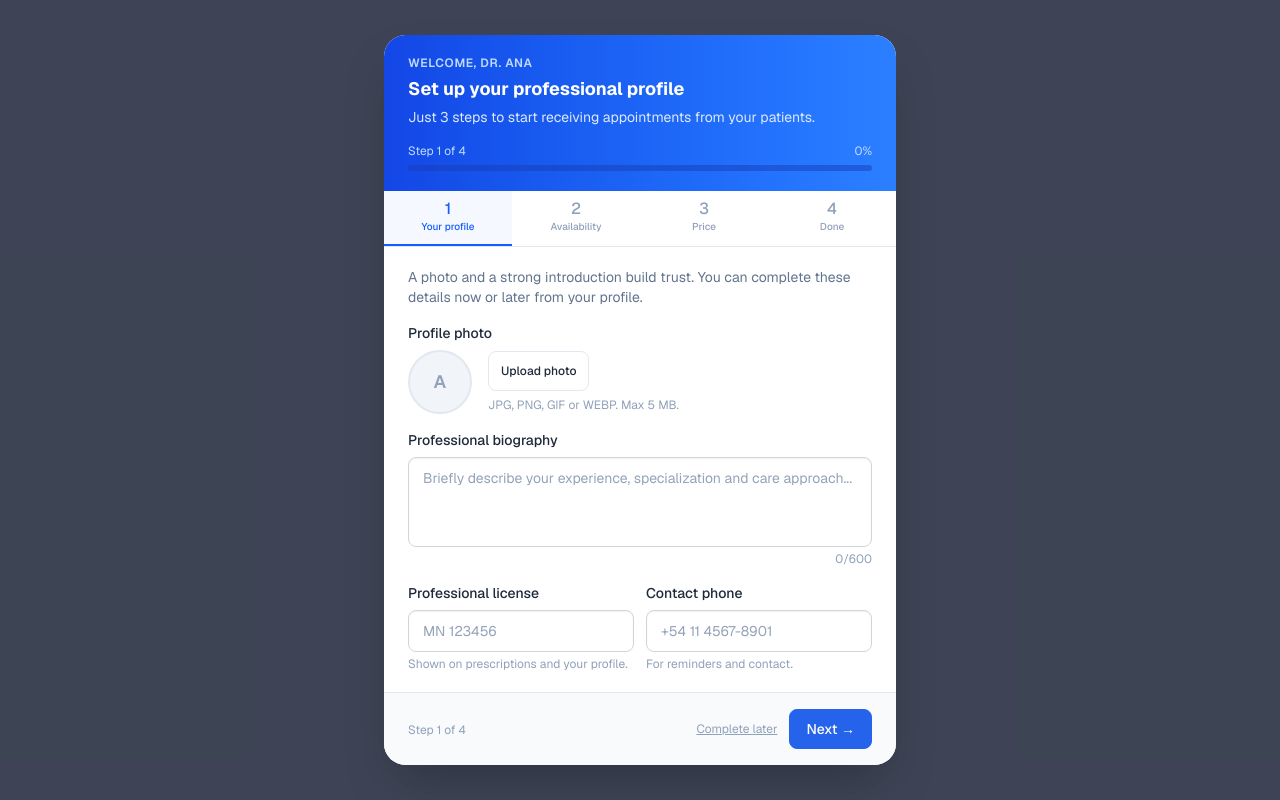
Test case: professional onboarding wizard i18n › shows translated license (matrícula) format validation
Type "not-a-license" into the field with placeholder "MN 123456" at x=521, y=631, box [408, 610, 634, 652]
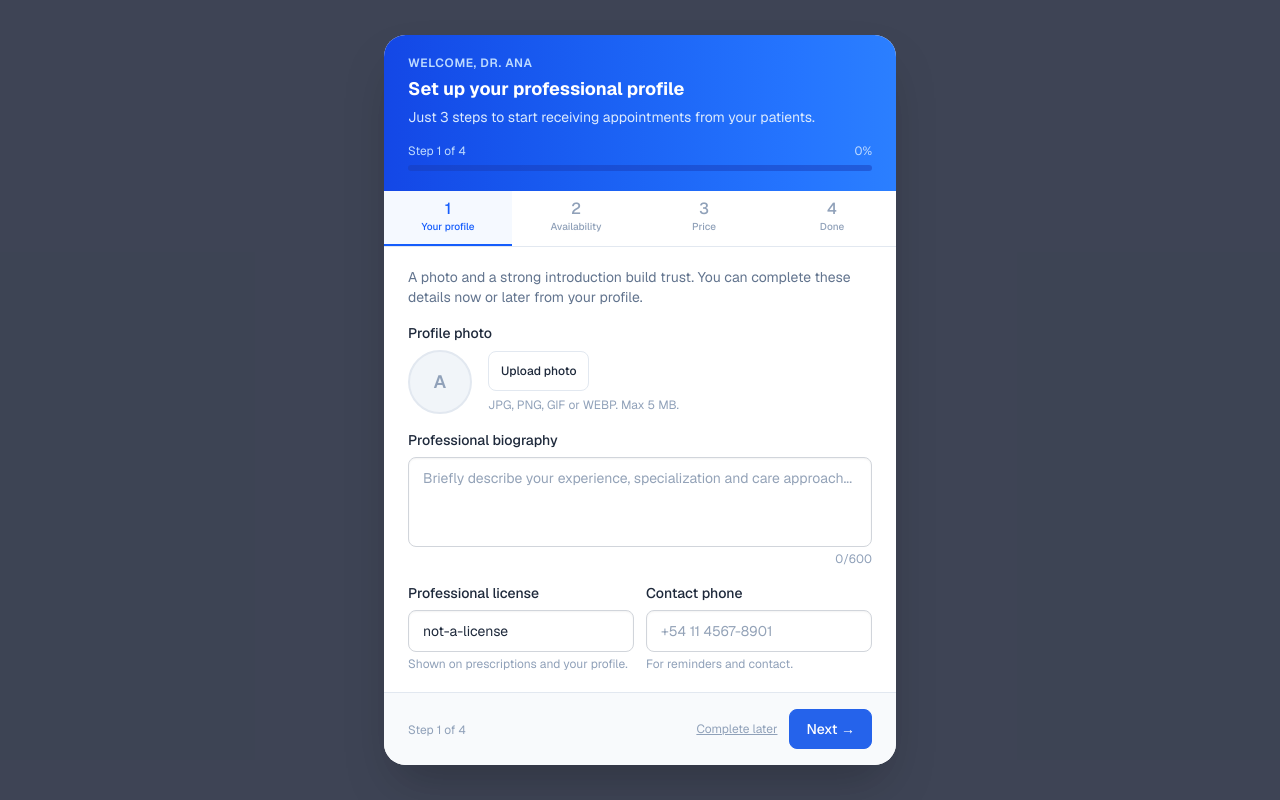
Click the button "Next →" at x=831, y=729, box [790, 709, 872, 749]
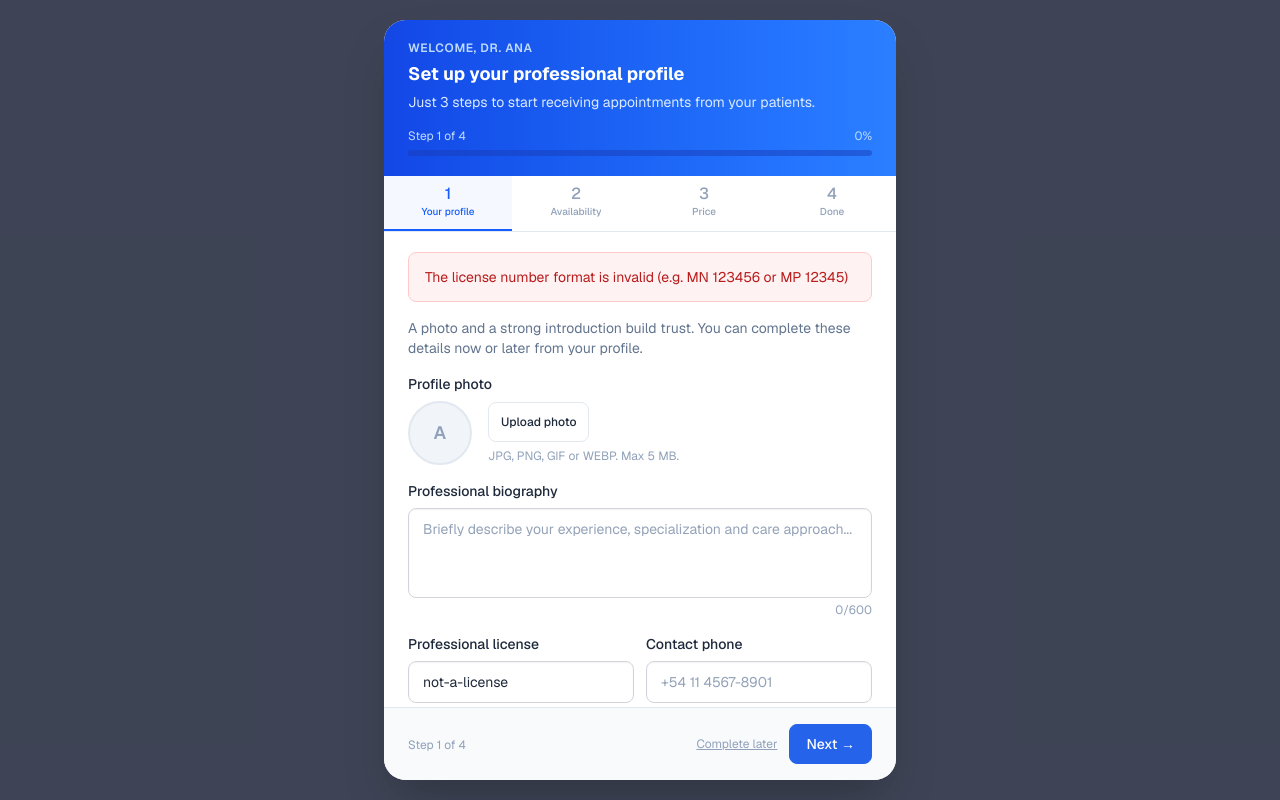
Expected: the text "The license number format is invalid (e.g. MN 123456 or MP 12345)" is shown, [408, 252, 872, 302]
